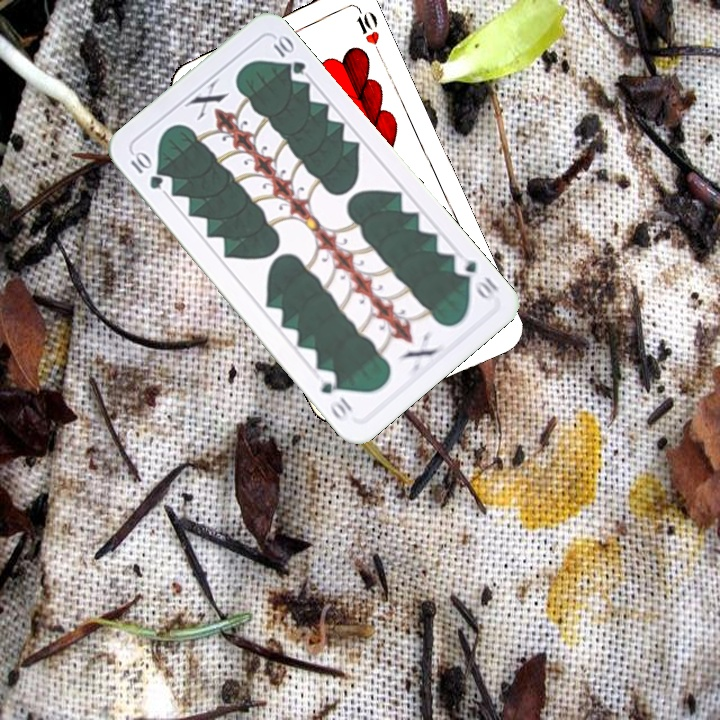G10: (449, 251, 501, 303), (126, 147, 166, 192)
